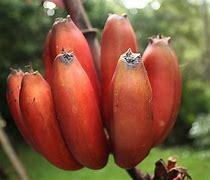banana: (4, 13, 182, 173), (44, 44, 110, 160), (106, 50, 154, 162)
